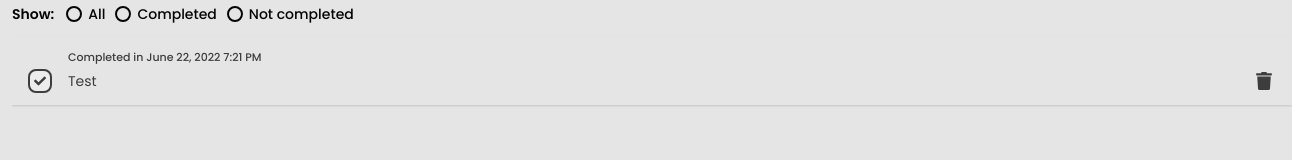
should remove a ToDo from the ToDos list
Click the button with test id "toDoItemDelete" at (1264, 82), box left=1252, top=70, right=1276, bottom=94
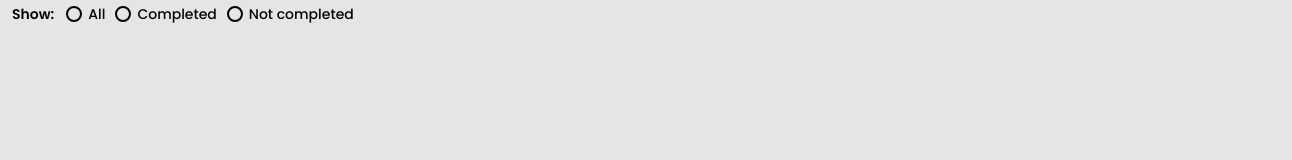
expect the button with test id "toDoItemDelete" is gone: met
